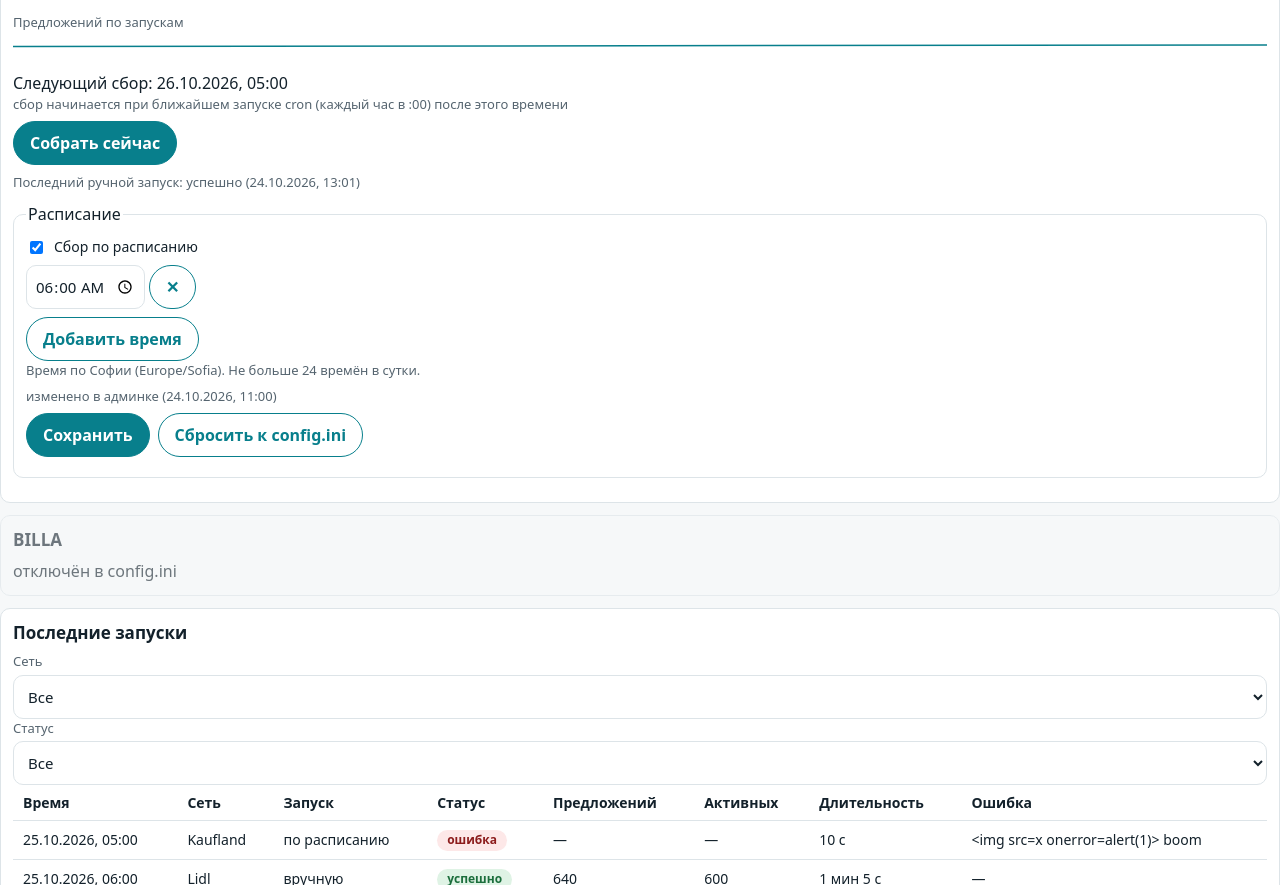
Scenario: Collection tab › offers a reset only for an admin override
This screenshot has width=1280, height=885.
(page scrolled)
Click the button "Сбросить к config.ini". click: coordinates (260, 435)
box: [158,413,363,457]
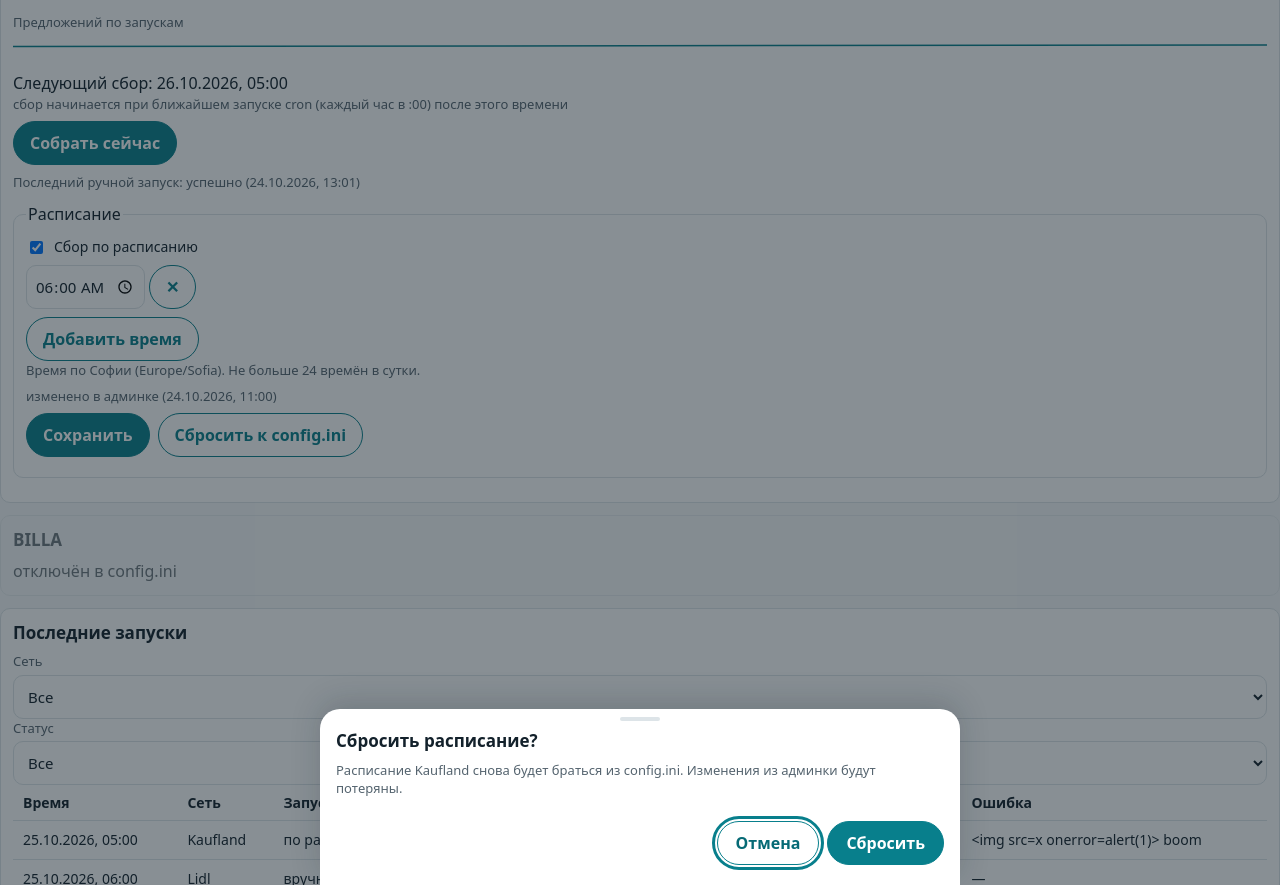
Now the dialog is shown, box [320,709,960,884]
